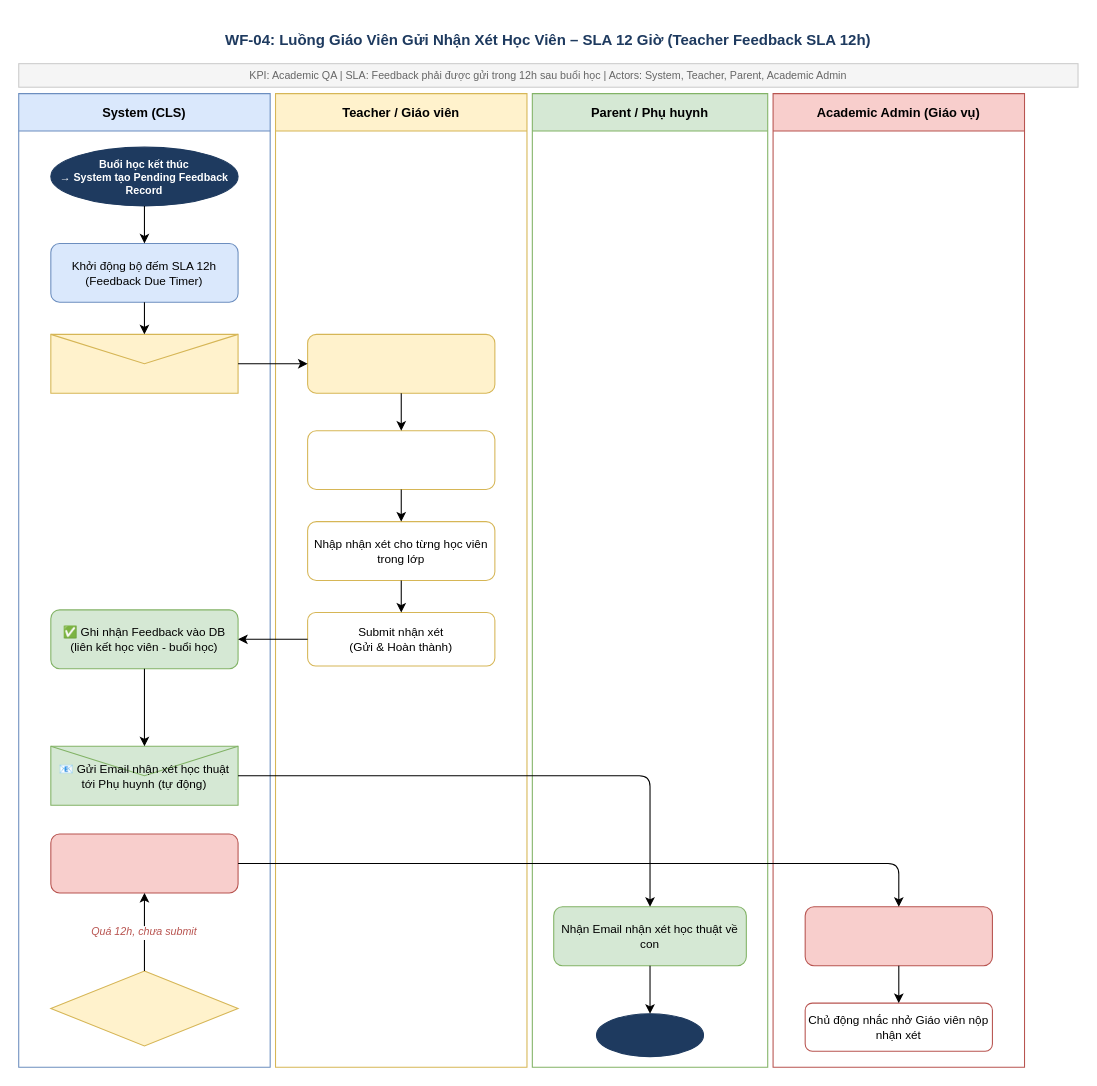
The diagram is 1097 pixels wide and 1086 high, and some of its shapes have lost their labels. Here are the shapes that lost their labels. From the top down, the centre of each, then its label:
At (144,363): "📧 Gửi thông báo cho Giáo viên: Feedback cần nộp trong 12h".
At (401,363): "Nhận thông báo SLA trên điện thoại / Email".
At (401,460): "Mở Form Nhận xét (Mobile-friendly, đơn giản)".
At (144,863): "⚠ SLA vi phạm: Gửi cảnh báo tới Academic Admin".
At (898,936): "Nhận cảnh báo SLA vi phạm từ System".
At (144,1008): "Kiểm tra: Giáo viên đã submit Feedback chưa?".
At (649,1035): "Kết thúc".
